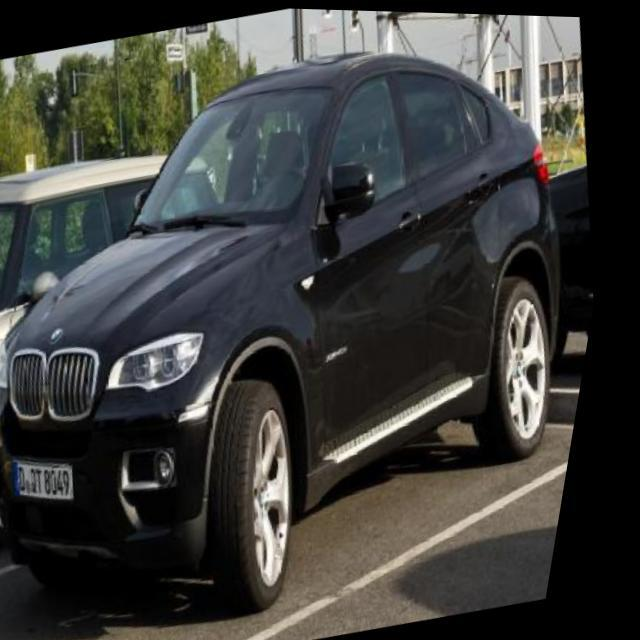license_plate: (18, 445, 98, 514)
